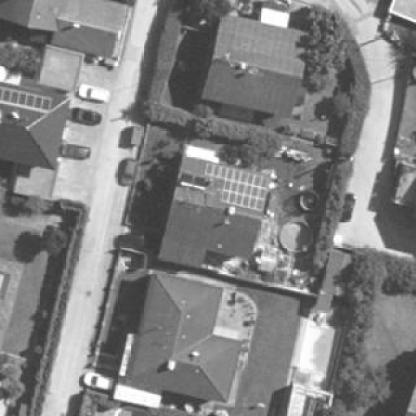solar-pv-panel: (204, 162, 270, 212), (0, 87, 50, 112), (182, 171, 205, 187)
